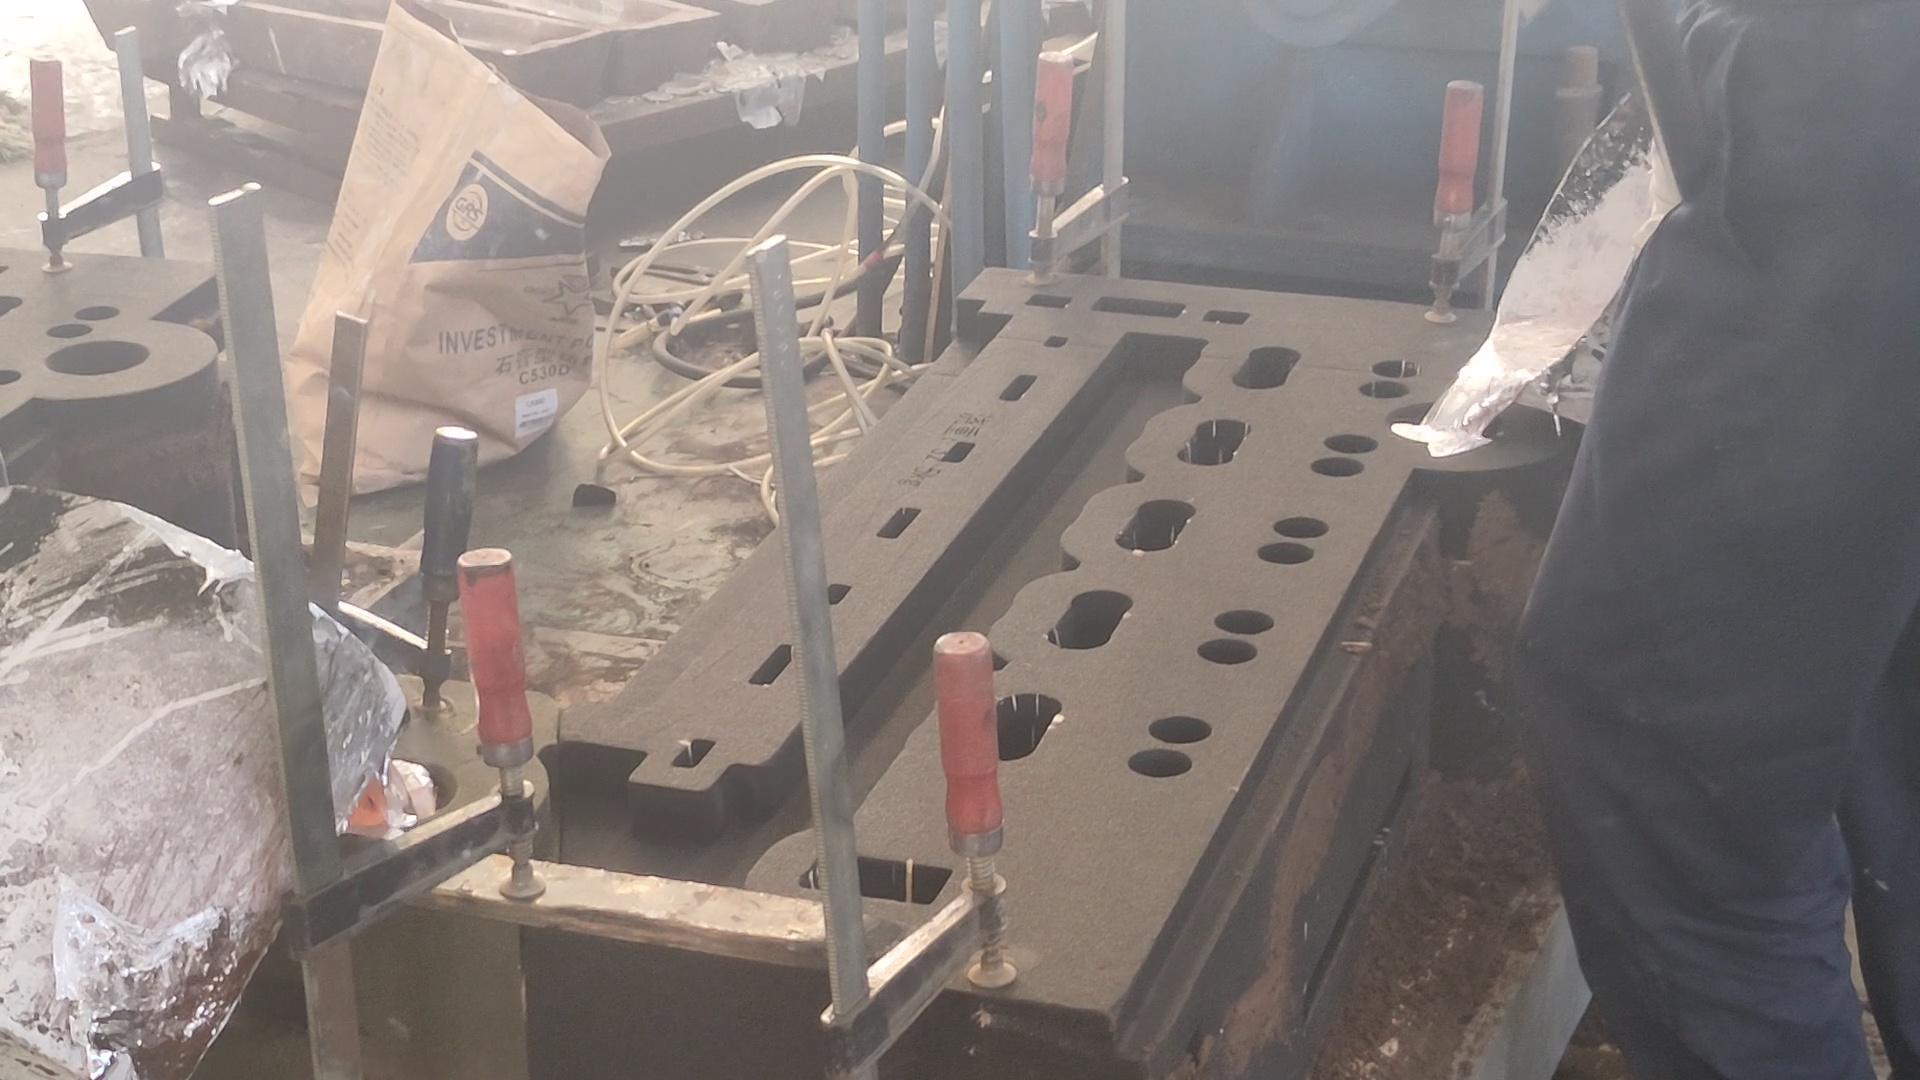pouring hole: (332, 756, 456, 828), (1386, 400, 1509, 444), (44, 339, 149, 376)
